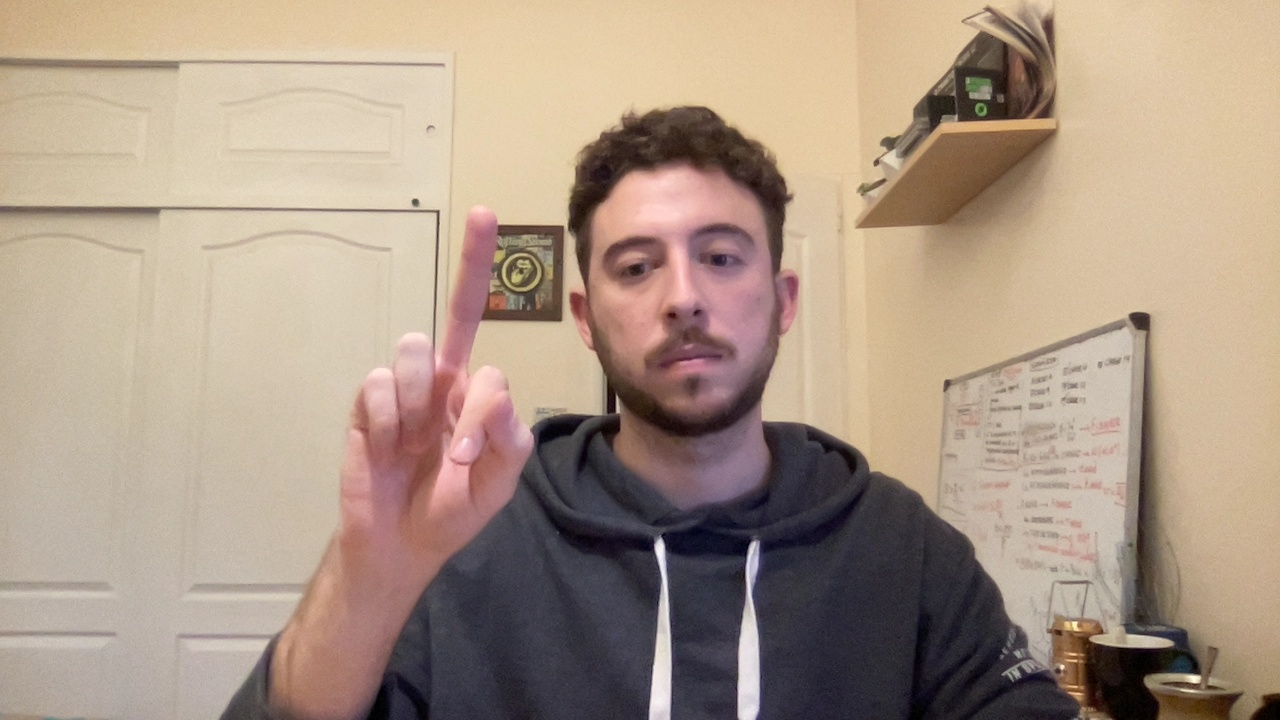mayor: (290, 190, 561, 603)
